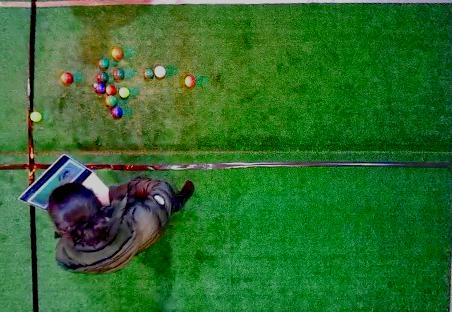blue: (111, 107, 123, 118), (95, 83, 106, 94)
green: (113, 69, 125, 81), (105, 95, 117, 107), (96, 72, 109, 83), (98, 58, 110, 69), (144, 68, 154, 79)
red: (60, 72, 74, 86), (111, 47, 124, 60), (154, 66, 166, 78), (185, 75, 196, 87), (105, 84, 117, 95)
vline: (1, 1, 36, 181), (1, 206, 41, 311), (446, 1, 451, 311)
white: (94, 83, 98, 88)
yellow: (30, 111, 42, 122), (119, 87, 130, 98)
